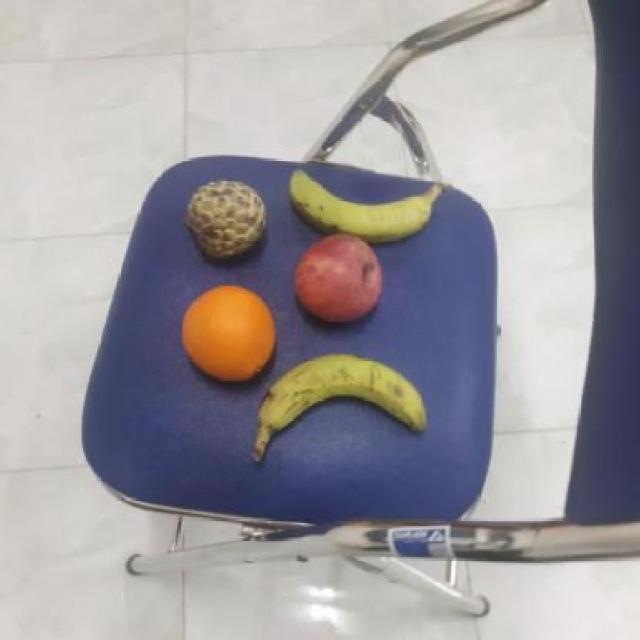apple: (289, 229, 386, 323)
banana: (247, 354, 431, 438), (278, 167, 438, 244)
oren: (175, 280, 280, 382)
sugar apple: (178, 173, 271, 259)
